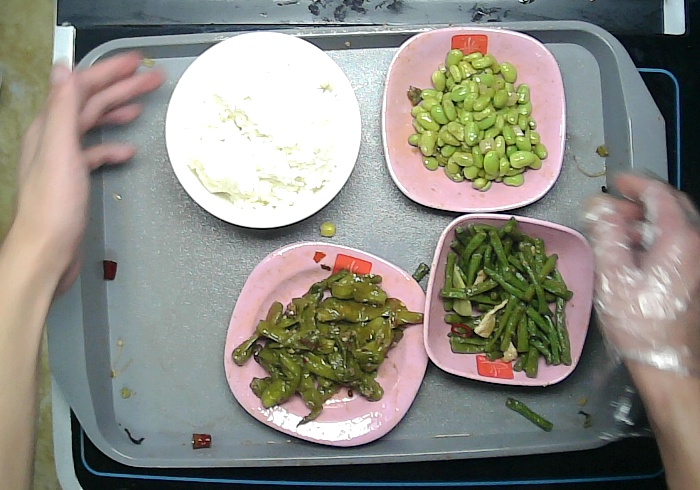SHKJ-Fan_Wan: (165, 30, 363, 227)
SHKJ-Fen_Se_Cai_Die: (381, 27, 568, 213)
SHKJ-Fen_Se_Si_Fang_Cai_Die: (223, 241, 430, 448)
SHKJ-Fen_Se_Xiao_Fang_Die: (422, 213, 594, 387)
